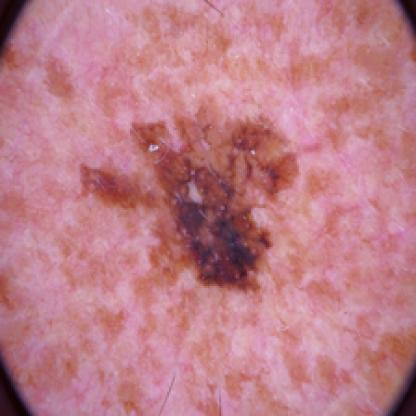Skin_Cancer-Malignant: (81, 114, 301, 293)
